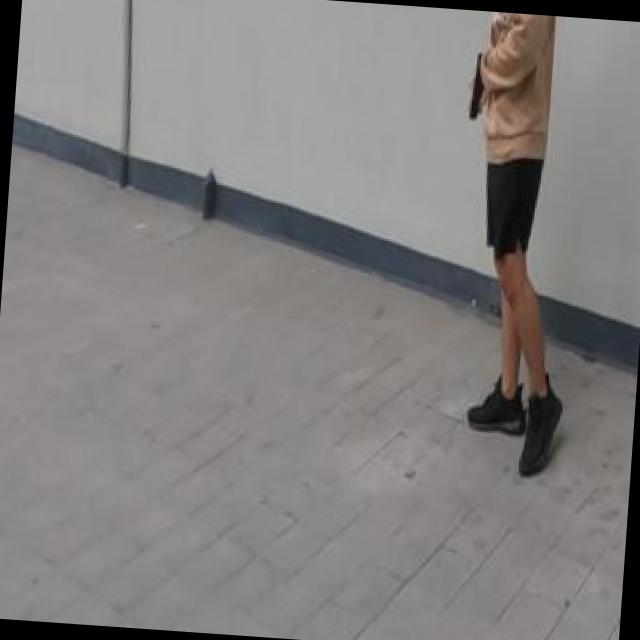Guns: (452, 34, 494, 136)
